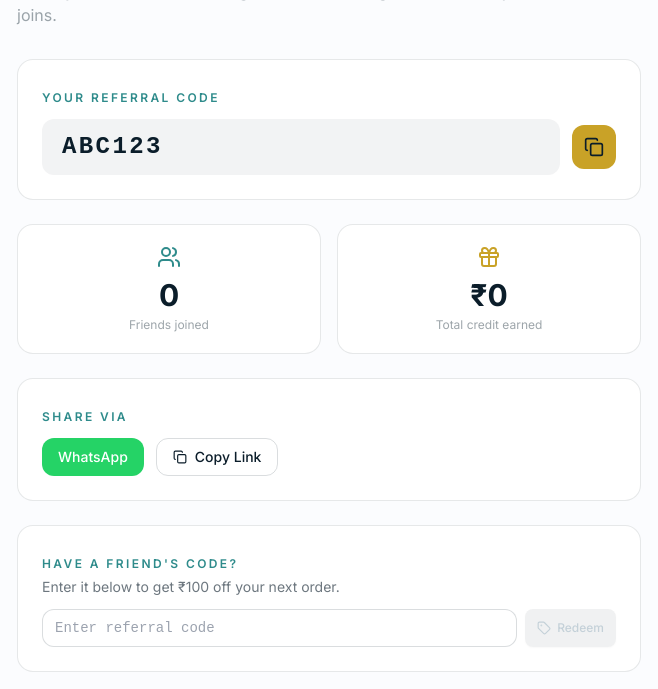
Scenario: ReferralPage › requires at least 4 characters before allowing redemption
(page scrolled)
Expected: the text "ABC123" is shown, [42,119,560,175]
Expected: the button "Redeem" is disabled, [525,609,616,647]
Step 1. Type "XYZ9" into the field with placeholder "Enter referral code" → (280, 628), box [42,609,517,647]
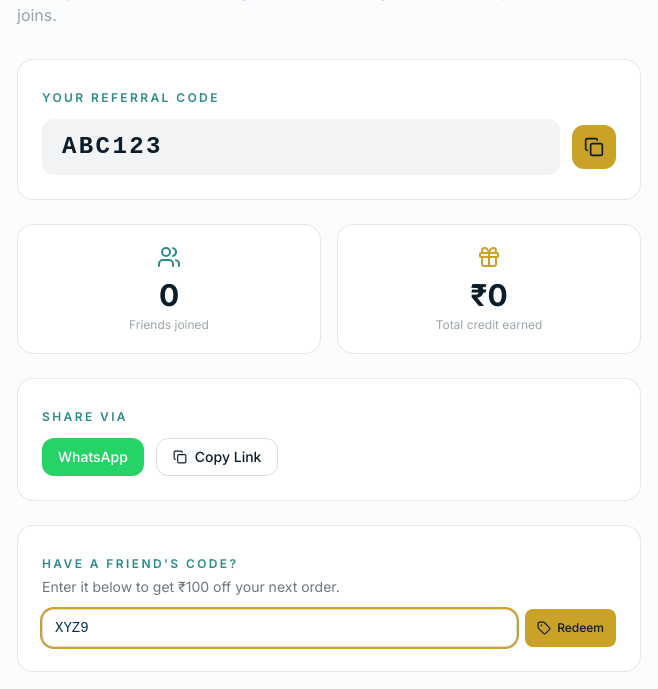
Now the button "Redeem" is enabled, box [525,609,616,647]
